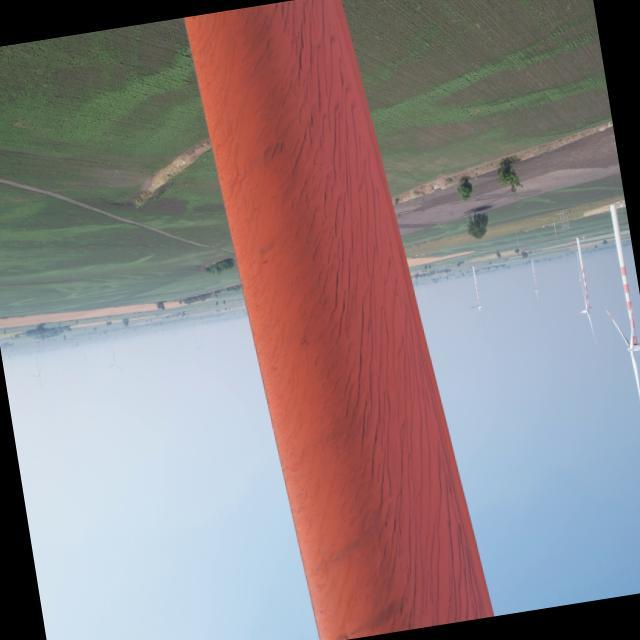Dirt: (185, 0, 500, 640)
